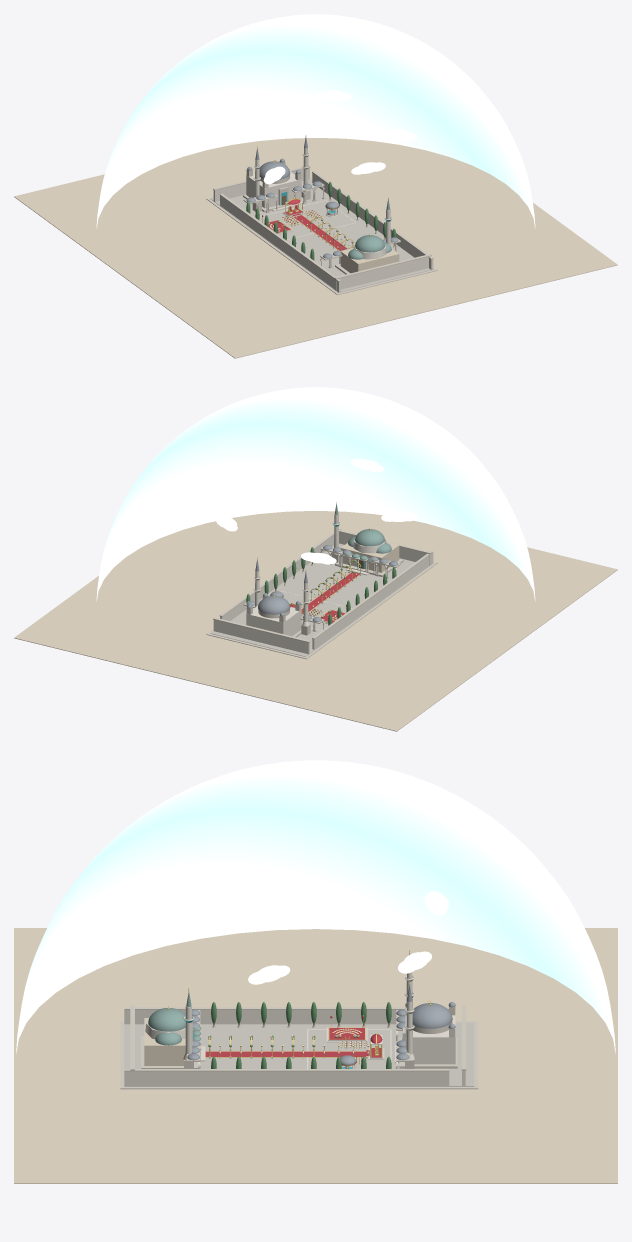
The model's file is osmanli_dugun_meydani_v2.glb.
3 renders of one model, top to bottom at view 1: azimuth 30°, elevation 25°; view 2: azimuth 150°, elevation 25°; view 3: azimuth 270°, elevation 25°, orthographic. The views are drawn at different scales.
Parts seen in each view (by area): view 1: Courtyard_Floor, Sky_Dome_Enclosure, North_Imperial_Mosque, South_Octagonal_Mosque, Perimeter_Wall_South_Back, Perimeter_Wall_North_Back; view 2: Courtyard_Floor, Sky_Dome_Enclosure, South_Octagonal_Mosque, North_Imperial_Mosque, Perimeter_Wall_North_Back, Perimeter_Wall_South_Back, Wedding_Walkway_Carpet; view 3: Courtyard_Floor, Sky_Dome_Enclosure, North_Imperial_Mosque, South_Octagonal_Mosque, Perimeter_Wall_East_-20.0, Perimeter_Wall_East_28.0, Perimeter_Wall_East_-4.0, Perimeter_Wall_East_12.0, Perimeter_Wall_West_-4.0, Wedding_Walkway_Carpet, Perimeter_Wall_East_42.0, Perimeter_Wall_West_12.0 (+2 smaller).
Boxes of the visible parts, x1,y1,x2,y2 form: Courtyard_Floor: (14,138,617,358); Sky_Dome_Enclosure: (96,14,535,264); North_Imperial_Mosque: (243,158,306,212); South_Octagonal_Mosque: (335,234,399,274); Perimeter_Wall_South_Back: (334,254,431,290); Perimeter_Wall_North_Back: (213,165,310,201); Courtyard_Floor: (14,511,617,731); Sky_Dome_Enclosure: (96,387,535,637); South_Octagonal_Mosque: (335,528,403,576); North_Imperial_Mosque: (246,593,301,637); Perimeter_Wall_North_Back: (213,617,310,654); Perimeter_Wall_South_Back: (339,529,431,565); Wedding_Walkway_Carpet: (301,572,359,614); Courtyard_Floor: (14,928,617,1183); Sky_Dome_Enclosure: (16,760,615,1053); North_Imperial_Mosque: (395,1000,457,1068); South_Octagonal_Mosque: (141,1006,205,1068); Perimeter_Wall_East_-20.0: (382,1069,449,1085); Perimeter_Wall_East_28.0: (182,1069,249,1085); Perimeter_Wall_East_-4.0: (316,1069,382,1085); Perimeter_Wall_East_12.0: (249,1069,315,1085); Perimeter_Wall_West_-4.0: (316,1007,382,1024); Wedding_Walkway_Carpet: (205,1051,366,1057); Perimeter_Wall_East_42.0: (124,1069,190,1085); Perimeter_Wall_West_12.0: (249,1007,315,1024).
Bounding box in the file's own units: 145 × 83.26 × 145.
